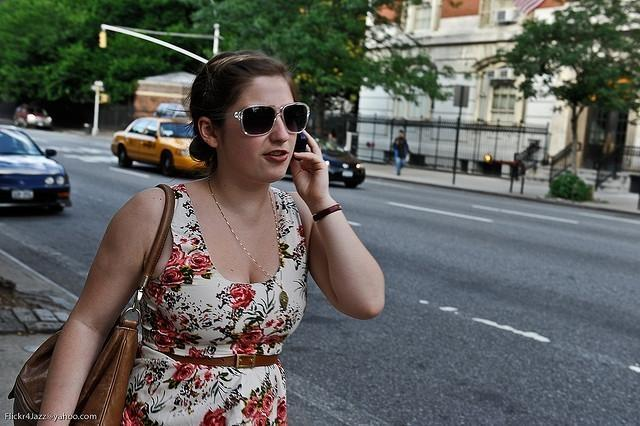car: (1, 120, 72, 207), (111, 117, 212, 176), (308, 132, 366, 188), (14, 105, 52, 127)
